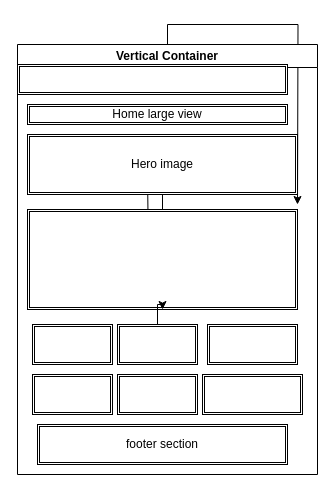
The diagram is 335 pixels wide and 492 high, and some of its shapes have lost their labels. The box of each missing label's shape, as (x1, y1, x2, y2) in pixels:
body: (26, 208, 298, 310)
header: (16, 64, 288, 94)
